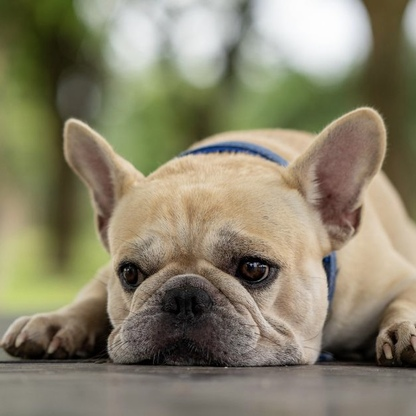bulldog: (5, 106, 416, 374)
